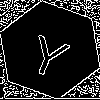Y: (25, 25, 75, 80)
